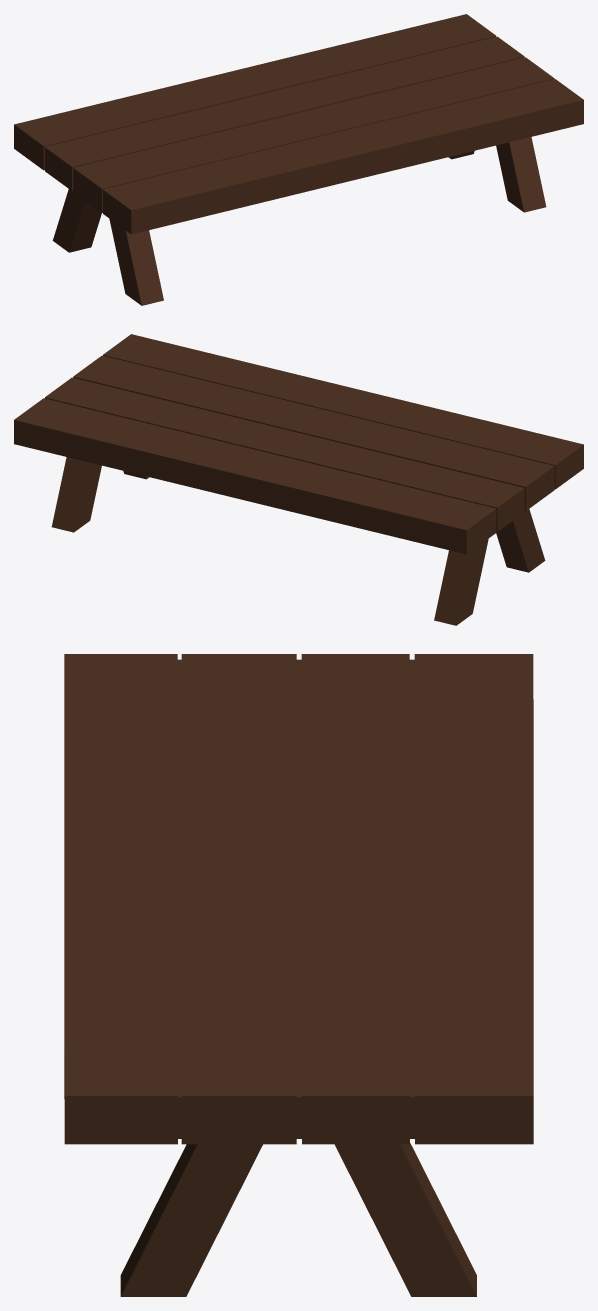
File: Tavolo.fbx
The picture shows the model from 3 angles, top to bottom: view 1: azimuth 30°, elevation 25°; view 2: azimuth 150°, elevation 25°; view 3: azimuth 270°, elevation 25°; orthographic projection. The views are drawn at different scales.
Parts seen in each view (by area): view 1: Table 2.001; view 2: Table 2.001; view 3: Table 2.001.
Boxes of the visible parts, bbox=[...] form: Table 2.001: bbox=[14, 14, 583, 305]; Table 2.001: bbox=[14, 334, 583, 625]; Table 2.001: bbox=[64, 654, 533, 1296].
Size of the model in its own units: 685 by 162 by 307.
